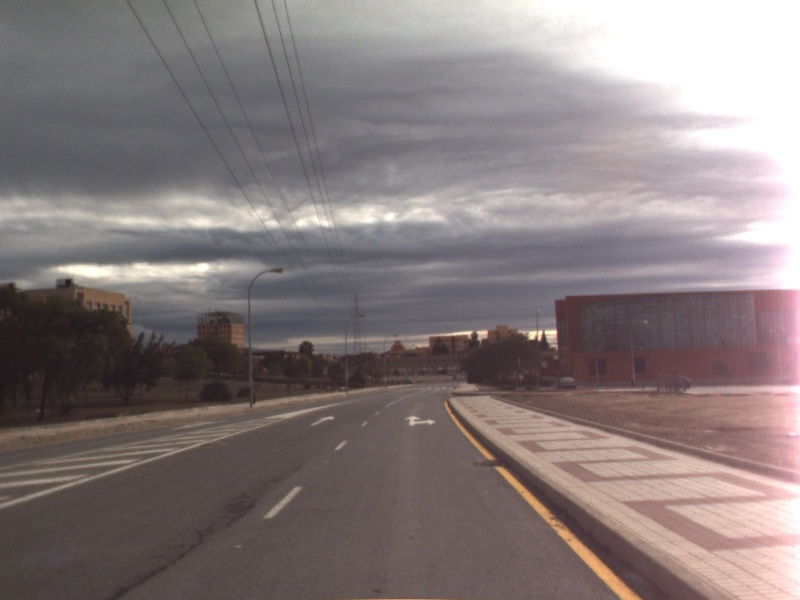STRAIGHT: (308, 412, 336, 427)
STRAIGHT_RIGHT: (402, 414, 438, 428)
